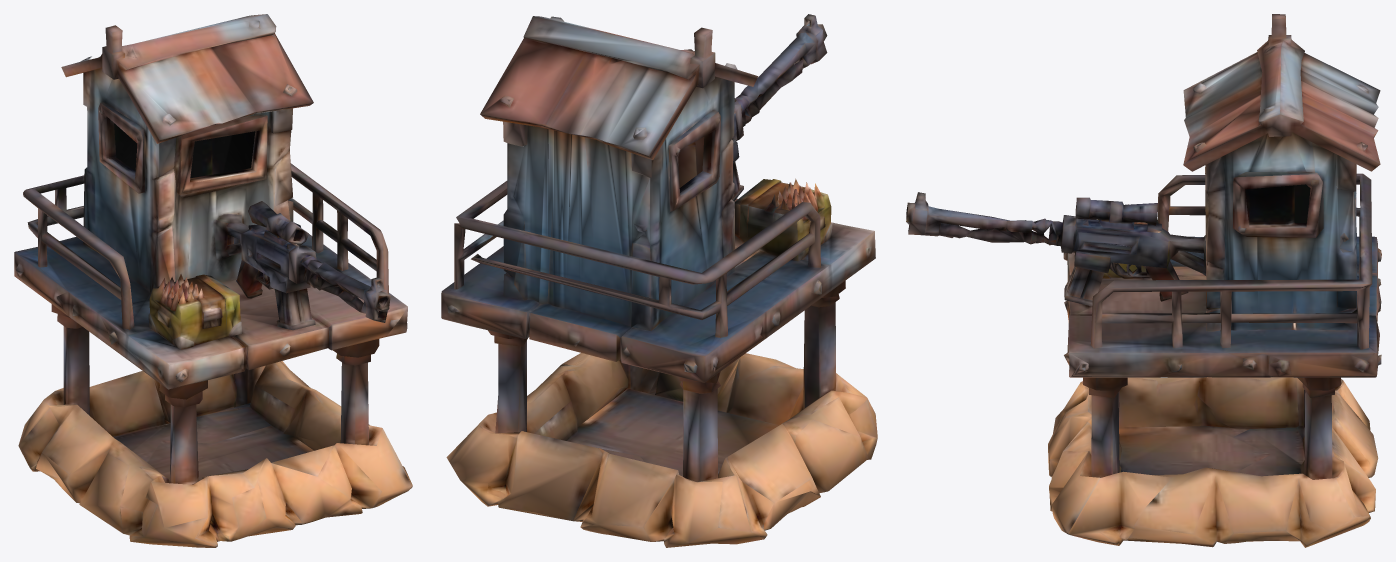
File: jiqiangpao-2.glb
3 renders of one model, left to right at view 1: azimuth 30°, elevation 25°; view 2: azimuth 150°, elevation 25°; view 3: azimuth 270°, elevation 25°, orthographic. The views are drawn at different scales.
Parts seen in each view (by area): view 1: node_0; view 2: node_0; view 3: node_0.
Part boxes in pixels (left/top/right/bottom): node_0: left=14, top=14, right=412, bottom=547; node_0: left=441, top=14, right=877, bottom=547; node_0: left=906, top=14, right=1381, bottom=547.
Bounding box in the file's own units: 0.5716 × 0.8391 × 0.8364.
1 material, 1 textured.
